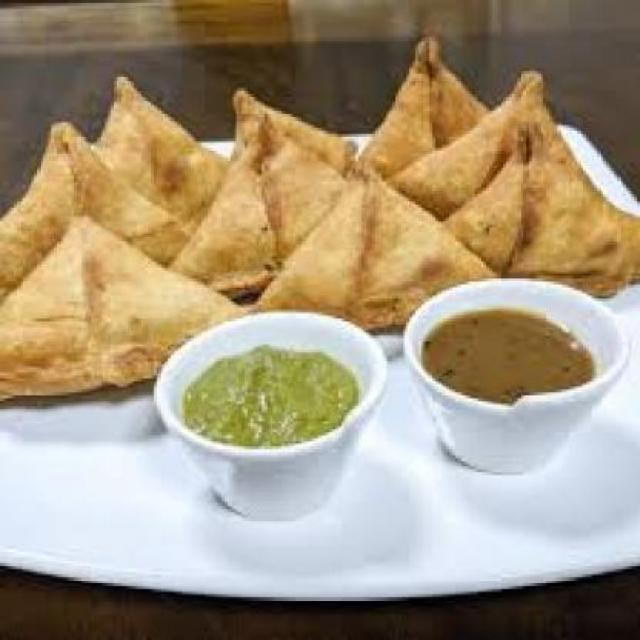samosa: (0, 215, 246, 398), (248, 158, 495, 330), (440, 119, 640, 298), (0, 121, 191, 302), (386, 70, 608, 222), (168, 112, 346, 300), (92, 76, 228, 236), (354, 40, 488, 182), (231, 91, 358, 180)
